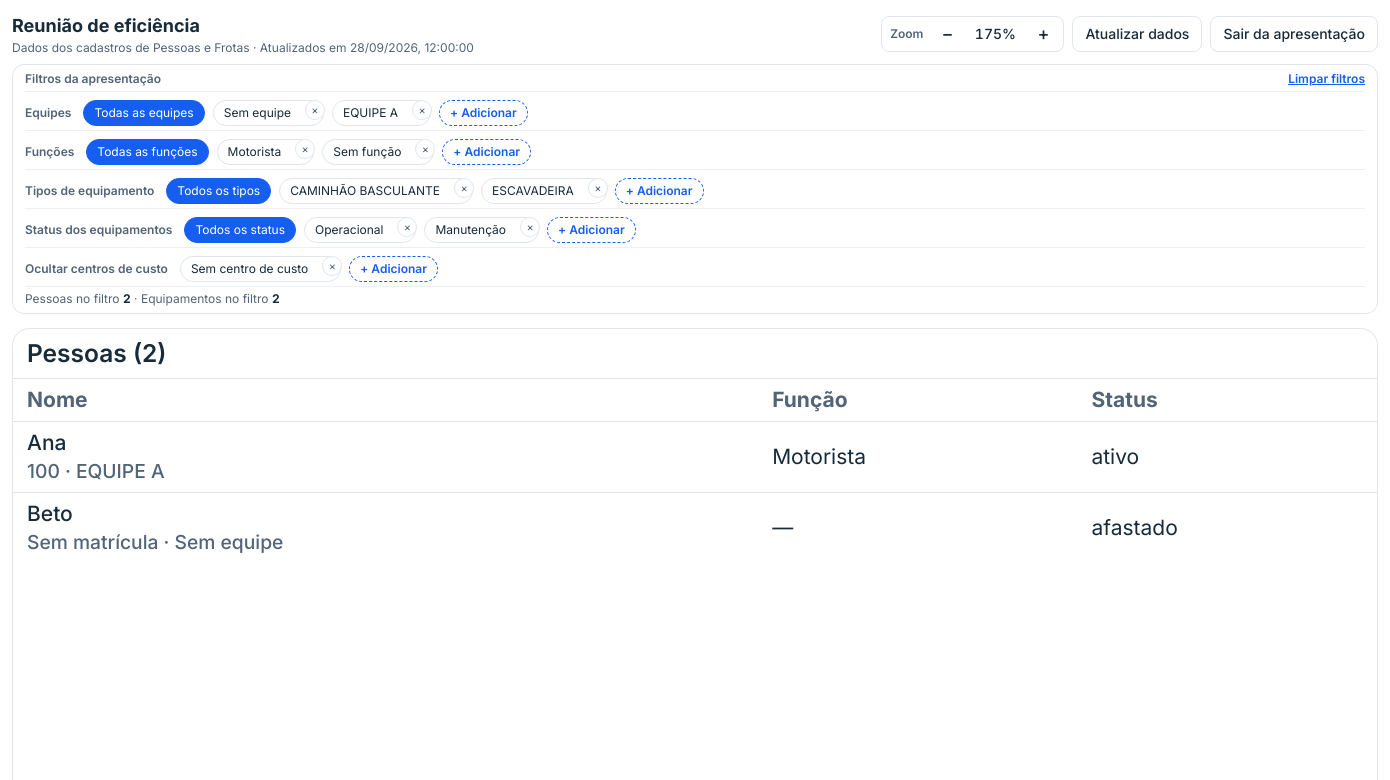
Scenario: tela de reunião › caps zoom to prevent content from growing beyond the supported presentation range
Click the button named "Aumentar zoom".
click(1043, 34)  # box [1027,18,1059,50]
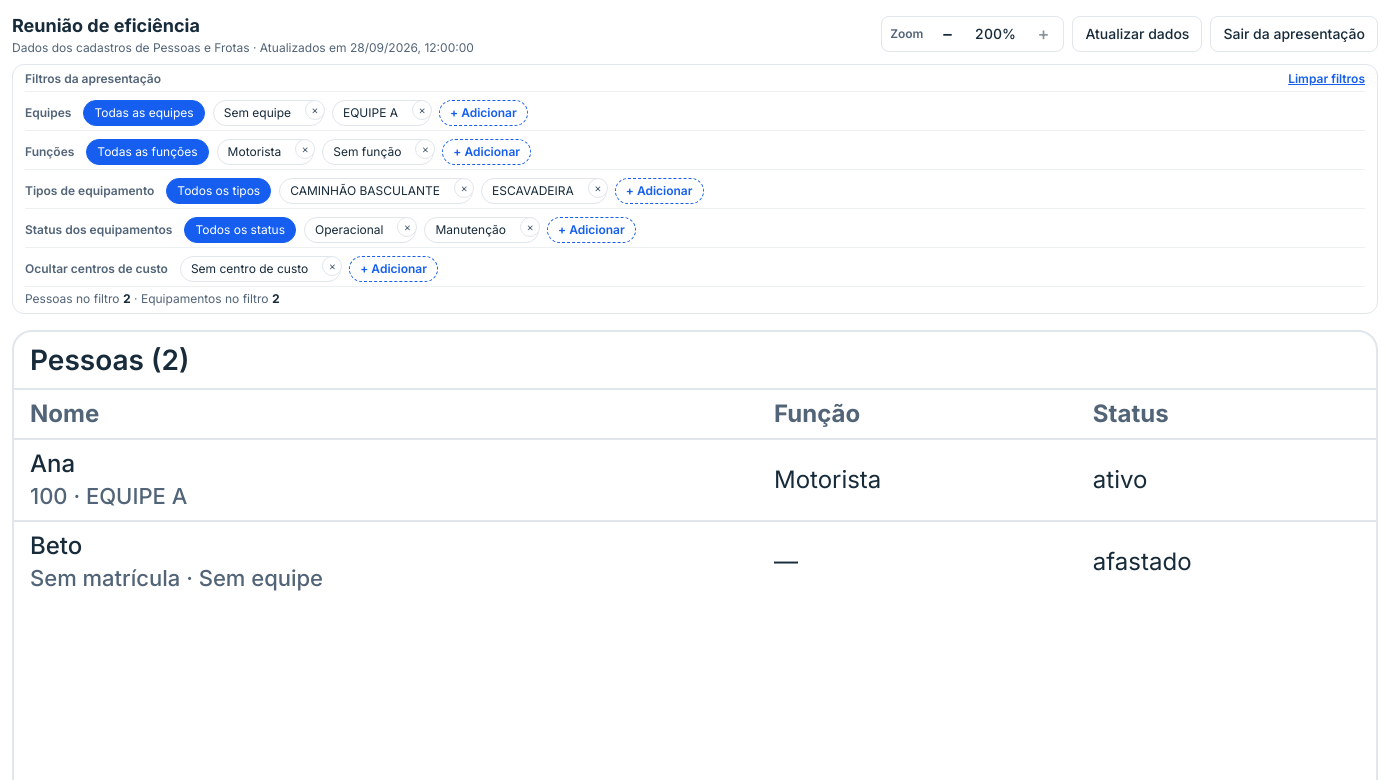
Now the button named "Aumentar zoom" is disabled, box [1027,18,1059,50]
